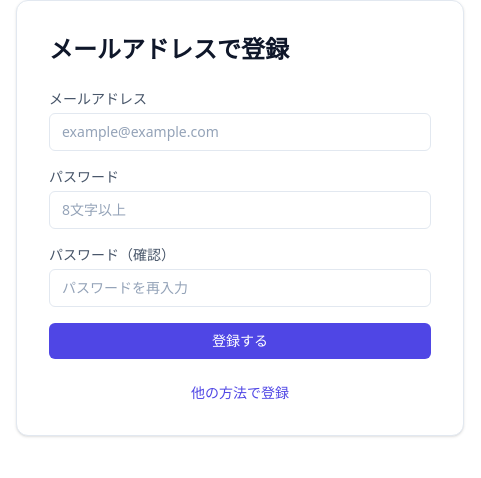
RegisterEmailForm › メールアドレスのバリデーションエラー表示
Type "invalid-email" into the field labelled "メールアドレス".
click(240, 132); type("invalid-email")  # box [49,113,431,151]
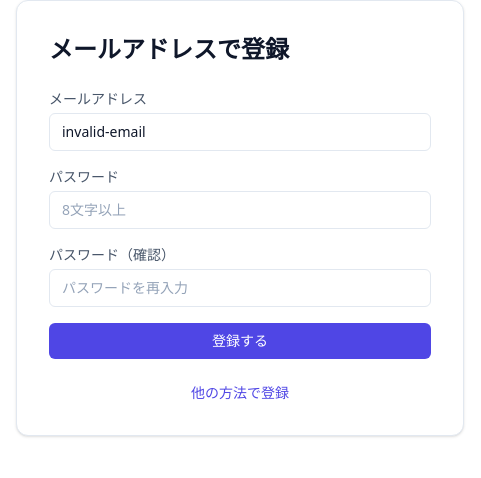
Type "Password1!" into the password field labelled "パスワード".
click(240, 210); type("Password1!")  # box [49,191,431,229]
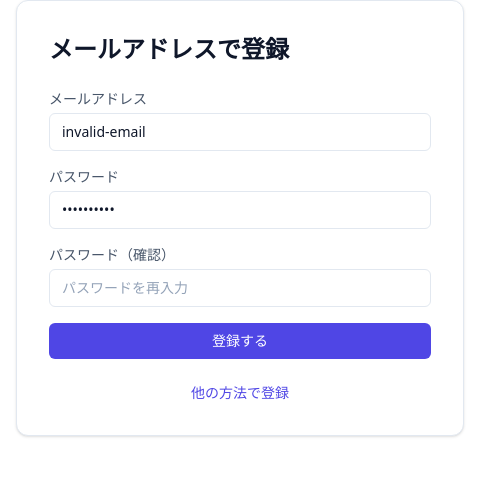
Type "Password1!" into the password field labelled "パスワード（確認）".
click(240, 288); type("Password1!")  # box [49,269,431,307]
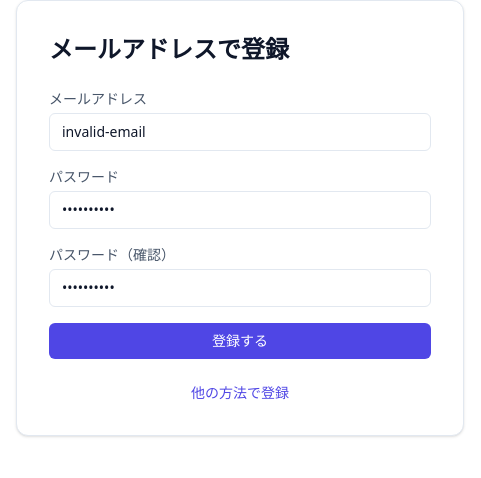
Submit the text "登録する", box [49,89,431,359]
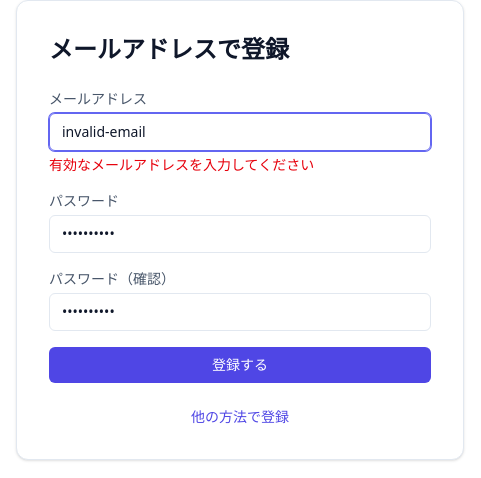
Result: the text "有効なメールアドレスを入力してください" is shown at [49,155,314,174]
